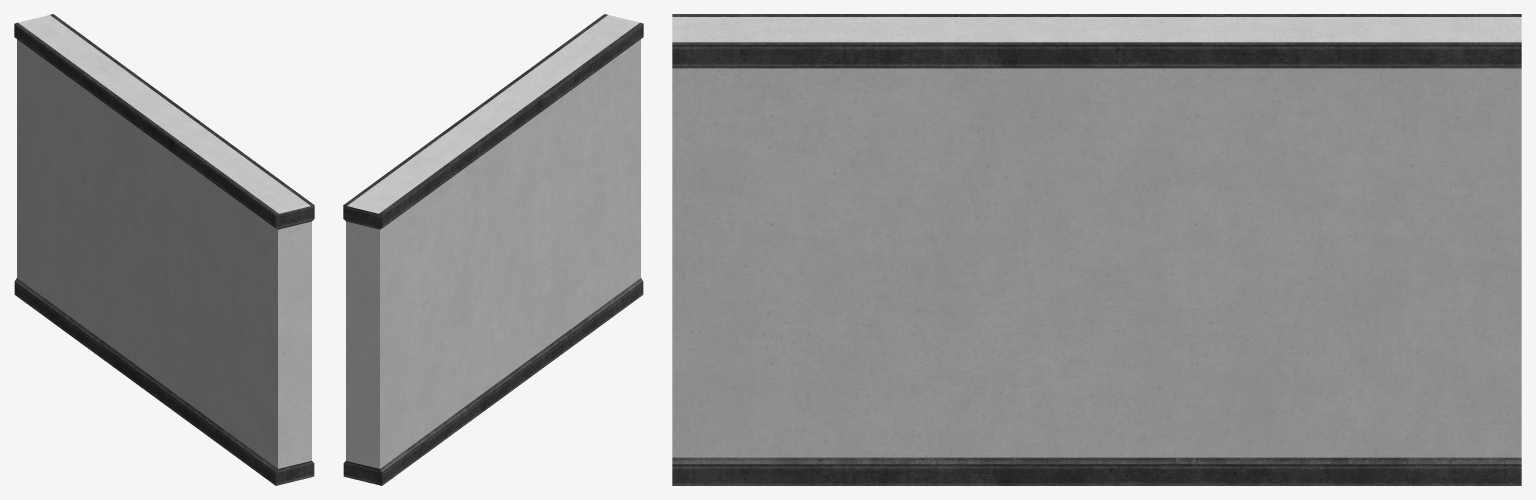
The model's file is MB_Fence_D_4m.fbx.
3 views of the same model, side by side, from view 1: azimuth 30°, elevation 25°; view 2: azimuth 150°, elevation 25°; view 3: azimuth 270°, elevation 25° (orthographic). The views are drawn at different scales.
Parts seen in each view (by area): view 1: MB_Fence_D_4m; view 2: MB_Fence_D_4m; view 3: MB_Fence_D_4m.
Part boxes in pixels (<box>): MB_Fence_D_4m: <box>14,14,314,485</box>; MB_Fence_D_4m: <box>343,14,643,485</box>; MB_Fence_D_4m: <box>672,14,1521,485</box>.
Size of the model in its own units: 34.62 by 229 by 400.
